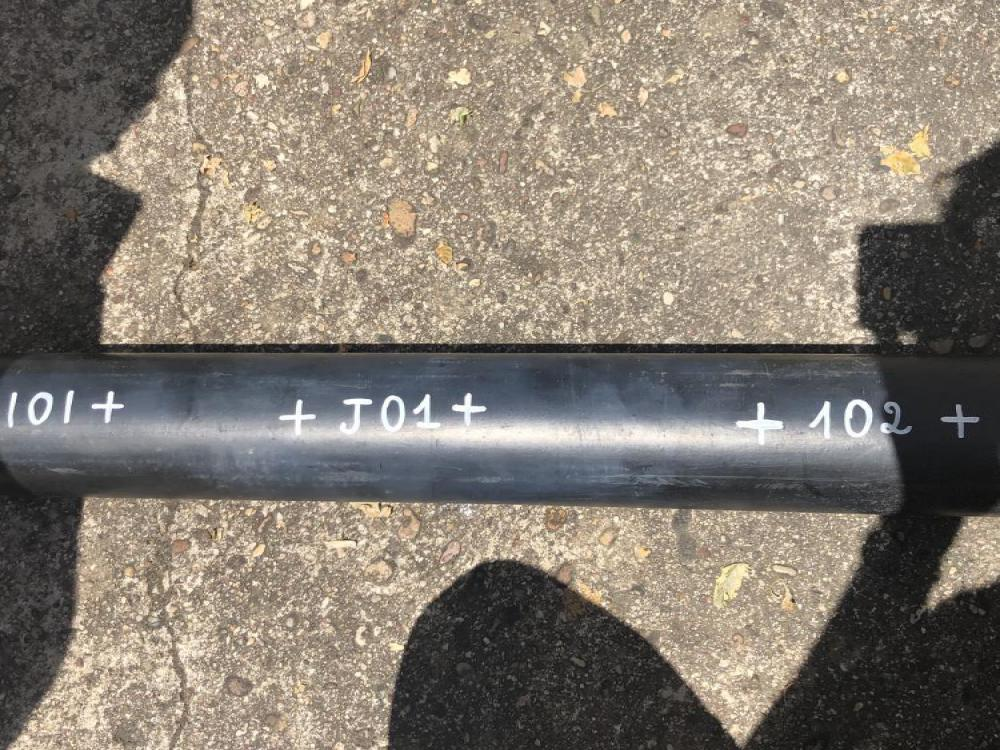+: (406, 554, 465, 588), (415, 706, 464, 735), (420, 208, 468, 237), (432, 340, 480, 366), (437, 67, 479, 94)
0: (415, 632, 468, 656), (422, 286, 473, 304), (434, 20, 478, 40)
1: (414, 606, 465, 626), (429, 311, 476, 332), (429, 5, 478, 14), (436, 46, 480, 56)
2: (420, 660, 464, 684)
J: (420, 254, 471, 280)
